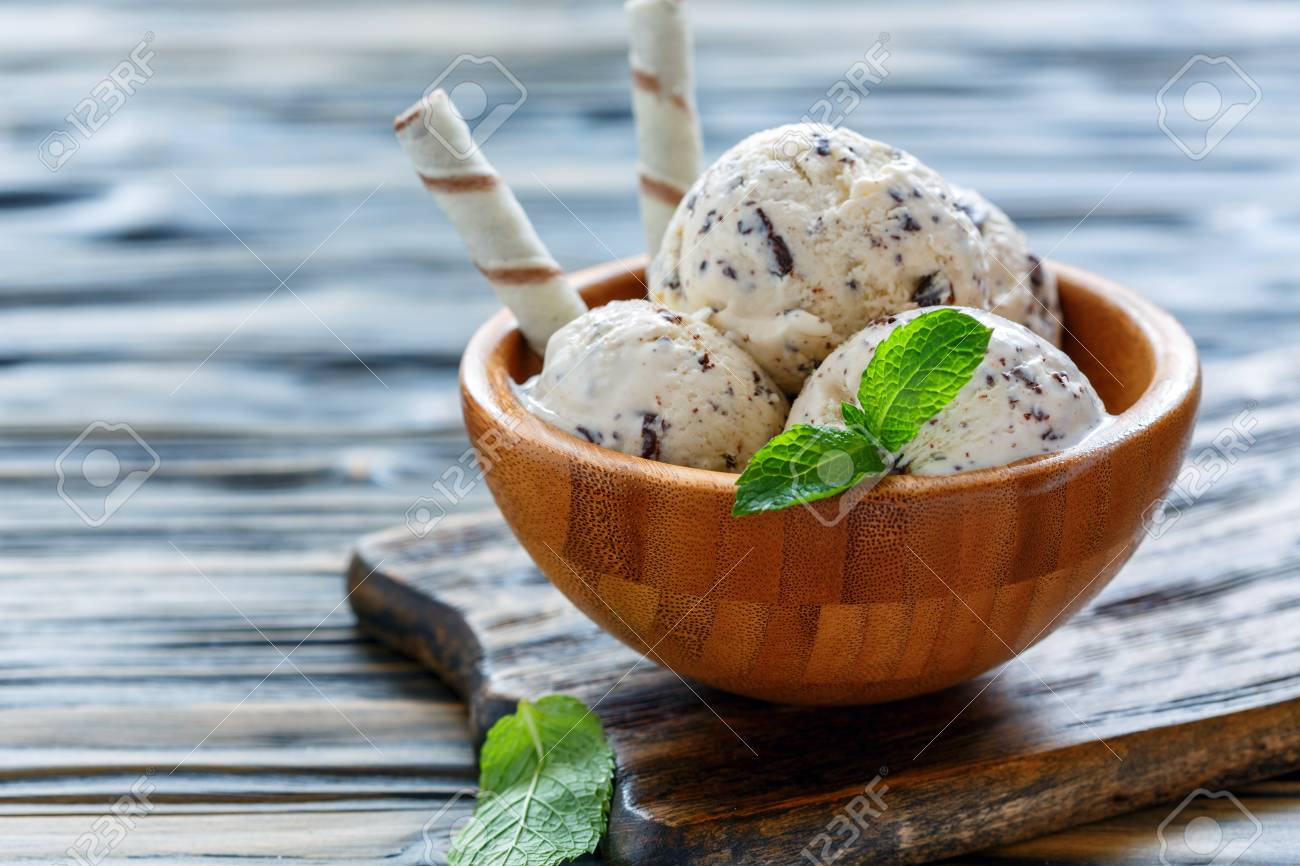ice-cream: (650, 122, 1062, 376), (785, 306, 1102, 469), (539, 300, 795, 482)
